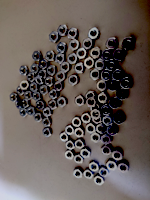nut: (122, 37, 135, 51), (114, 49, 127, 62), (102, 49, 115, 62), (112, 149, 125, 162), (106, 38, 119, 50), (88, 28, 101, 40), (90, 47, 102, 60), (100, 69, 112, 82), (120, 78, 133, 90), (106, 60, 118, 72), (118, 162, 130, 174), (84, 57, 95, 69), (68, 74, 79, 86), (113, 69, 125, 80), (116, 89, 128, 100), (114, 113, 125, 125), (86, 96, 97, 108), (101, 135, 113, 146), (89, 161, 100, 173), (73, 168, 84, 180), (83, 38, 93, 51), (90, 69, 100, 82), (75, 96, 86, 107), (68, 28, 79, 39), (91, 109, 102, 120), (67, 54, 78, 65), (106, 160, 117, 171), (101, 145, 112, 156), (59, 132, 70, 143), (47, 65, 58, 76), (19, 80, 30, 91), (77, 48, 87, 60), (95, 59, 105, 71), (109, 80, 119, 92), (58, 25, 68, 37), (103, 115, 113, 127), (82, 113, 92, 125), (72, 116, 82, 128), (106, 126, 118, 136), (99, 167, 109, 179), (94, 175, 104, 187), (84, 169, 94, 181), (57, 96, 67, 108), (74, 63, 84, 74), (99, 93, 109, 104), (111, 98, 121, 109), (69, 40, 79, 51), (81, 149, 92, 159), (65, 125, 75, 136), (49, 32, 59, 43), (32, 51, 43, 61), (61, 62, 71, 73), (54, 81, 64, 92), (48, 99, 58, 110), (36, 100, 46, 111), (39, 85, 49, 96), (30, 64, 40, 75), (75, 127, 84, 139), (56, 53, 65, 65), (57, 71, 66, 83), (97, 81, 107, 91), (91, 133, 101, 143), (75, 140, 85, 150), (86, 124, 96, 134), (57, 42, 67, 52), (39, 59, 49, 69), (43, 128, 53, 138), (43, 118, 53, 128), (102, 104, 111, 115), (75, 154, 84, 165), (46, 51, 55, 62), (9, 93, 18, 104), (38, 70, 47, 81), (87, 92, 96, 102), (92, 103, 101, 113), (93, 115, 102, 125), (34, 112, 43, 122), (32, 91, 41, 101), (29, 83, 38, 93), (49, 90, 58, 100), (15, 86, 25, 95), (27, 106, 35, 117), (20, 65, 28, 76), (65, 152, 74, 161), (21, 100, 30, 109), (45, 78, 54, 87), (43, 108, 51, 118), (19, 109, 27, 118), (24, 91, 32, 99), (66, 142, 73, 151), (97, 126, 106, 133), (27, 75, 36, 82), (36, 78, 44, 85)
